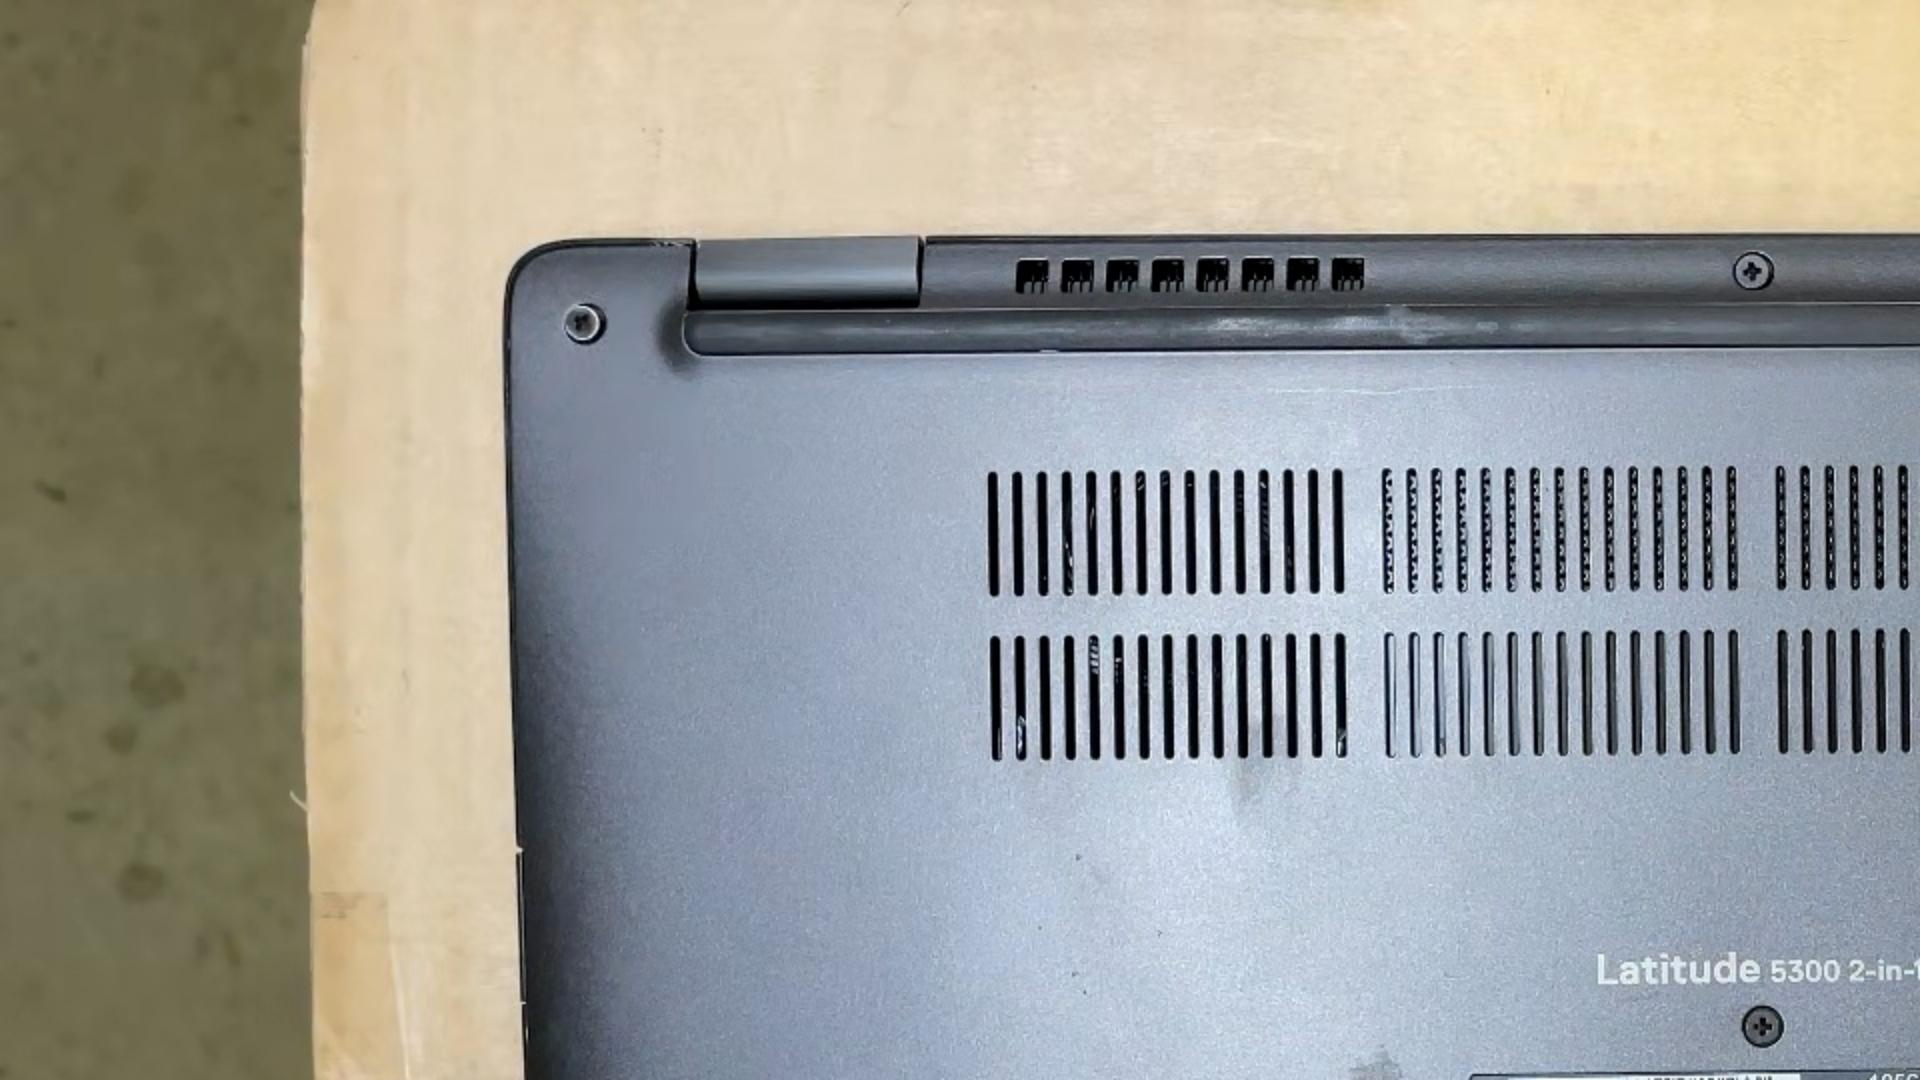chip: (1072, 849, 1085, 864), (1034, 922, 1046, 932), (1069, 968, 1080, 980), (1156, 928, 1163, 942), (1083, 986, 1089, 997)
scratches: (1266, 384, 1482, 396)
